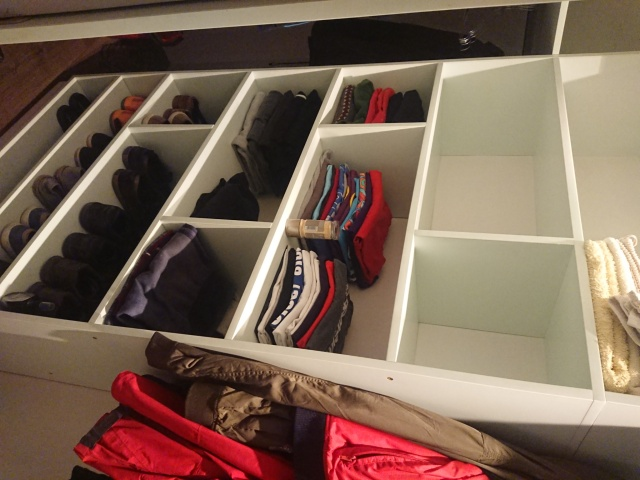Kotanyi Garlic Granules 70g: (284, 217, 340, 242)
